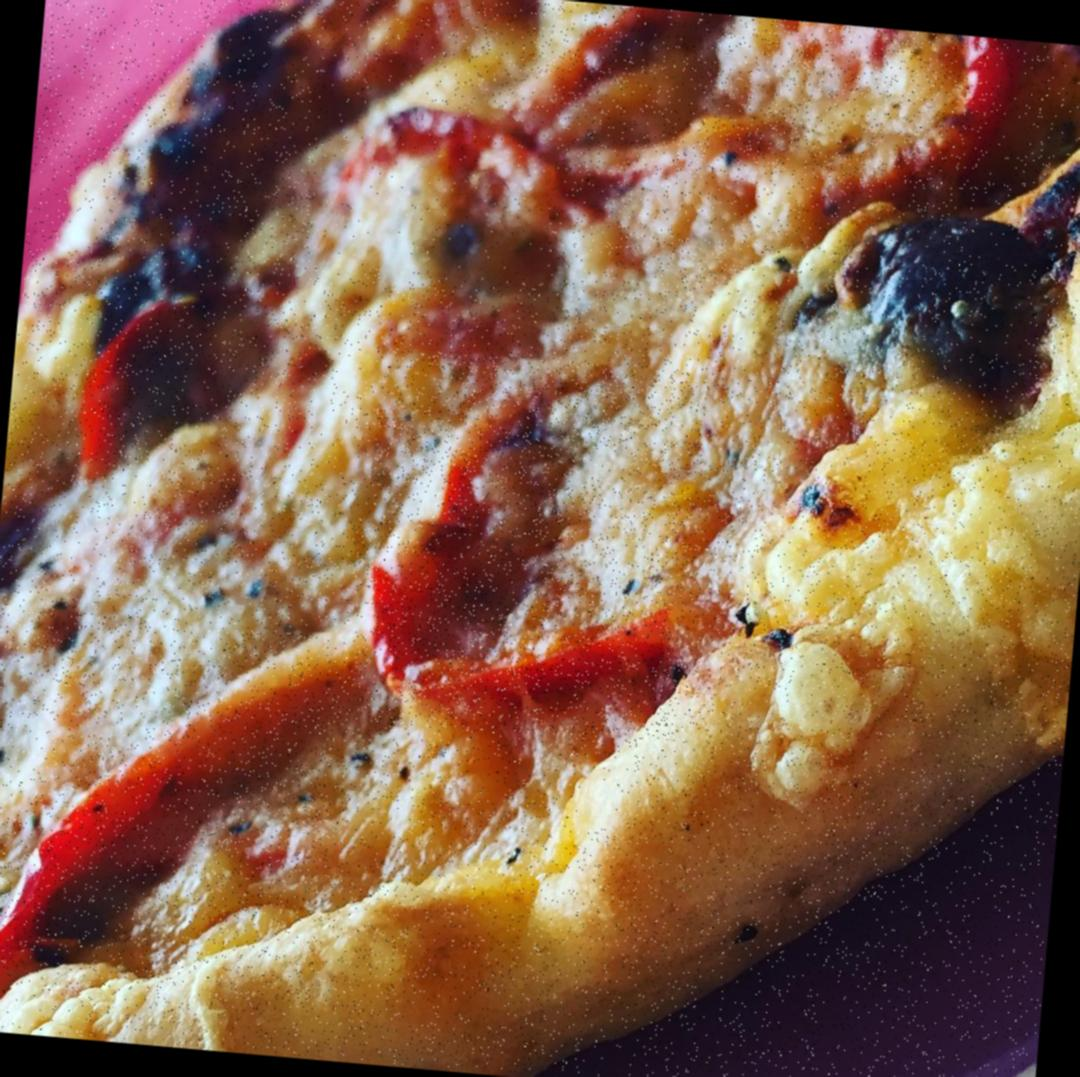Pepperoni: (350, 347, 712, 750), (0, 605, 346, 1015), (680, 12, 992, 209), (308, 94, 559, 284), (72, 295, 199, 494), (525, 0, 679, 124)
Pizza: (0, 0, 1080, 1077)
